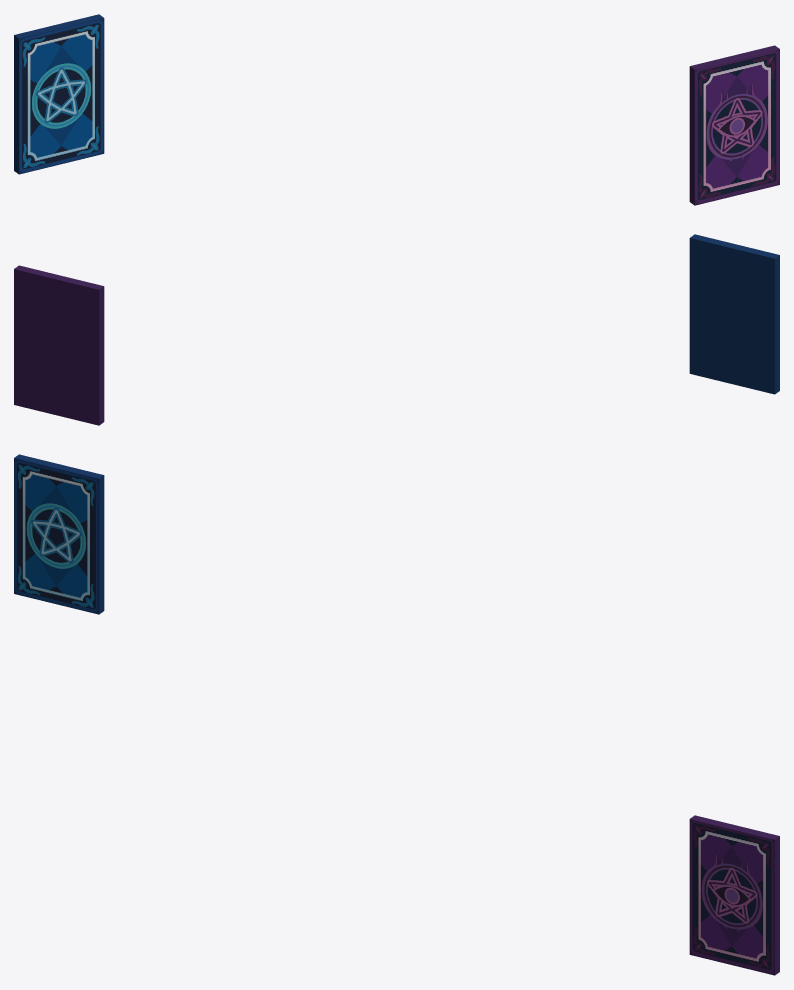
File: Card.FBX
3 renders of one model, top to bottom at view 1: azimuth 30°, elevation 25°; view 2: azimuth 150°, elevation 25°; view 3: azimuth 330°, elevation 25°, orthographic.
Visible parts, largest first — view 1: Card; view 2: Card; view 3: Card.
Boxes of the visible parts, x1,y1,x2,y2 form: Card: (14,14,779,205); Card: (14,234,779,425); Card: (14,454,779,975).
Bounding box in the file's own units: 482 × 201 × 5.54.
